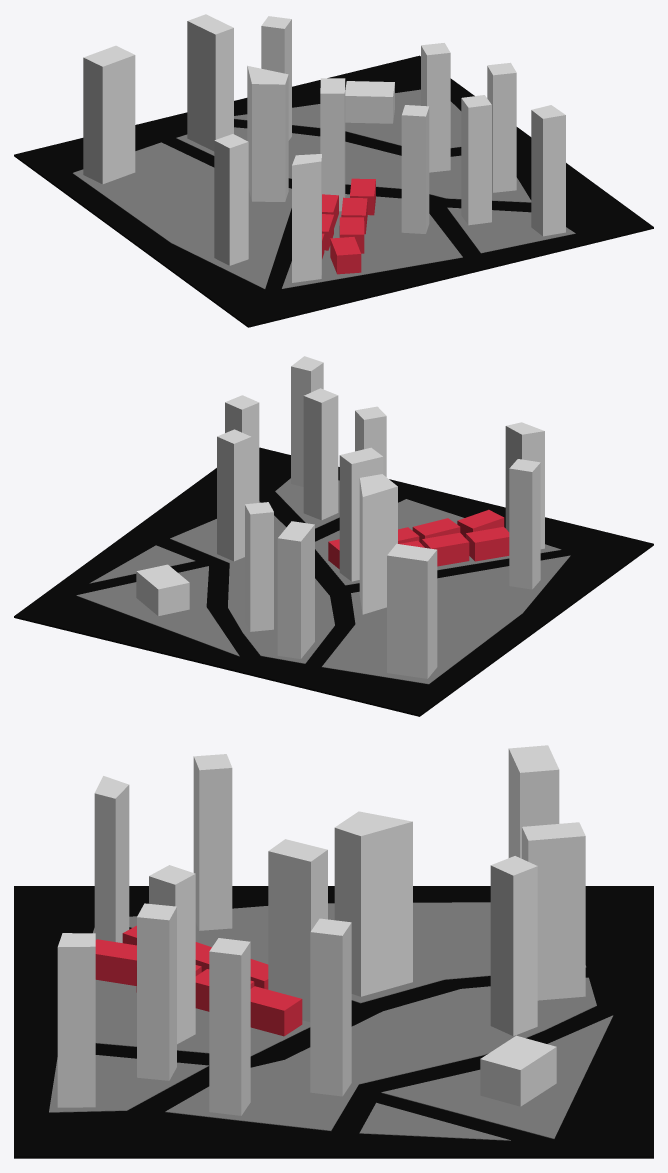
Rendered from mapDesign 1.fbx.
The picture shows the model from 3 angles, top to bottom: view 1: azimuth 30°, elevation 25°; view 2: azimuth 150°, elevation 25°; view 3: azimuth 270°, elevation 25°; orthographic projection. The views are drawn at different scales.
Visible parts, largest first — view 1: Cube, Cube.010, Cube.001, Cube.007, Cube.002, Cube.011, Cube.023, Cube.009, Cube.005, Cube.006, Cube.004, Cube.003 (+12 smaller); view 2: Cube, Cube.010, Cube.001, Cube.007, Cube.023, Cube.002, Cube.006, Cube.014, Cube.005, Cube.017, Cube.016, Cube.008 (+12 smaller); view 3: Cube, Cube.023, Cube.002, Cube.007, Cube.010, Cube.016, Cube.008, Cube.014, Cube.018, Cube.017, Cube.006, Cube.005 (+11 smaller).
Boxes of the visible parts, x1,y1,x2,y2 form: Cube: [14, 55, 653, 327]; Cube.010: [72, 142, 291, 289]; Cube.001: [83, 45, 135, 184]; Cube.007: [187, 14, 233, 151]; Cube.002: [247, 66, 288, 201]; Cube.011: [282, 194, 462, 288]; Cube.023: [176, 127, 531, 202]; Cube.009: [531, 105, 565, 236]; Cube.005: [214, 134, 248, 265]; Cube.006: [461, 95, 491, 225]; Cube.004: [292, 154, 321, 282]; Cube.003: [401, 105, 429, 233]; Cube: [14, 447, 653, 716]; Cube.010: [322, 555, 570, 684]; Cube.001: [387, 543, 437, 678]; Cube.007: [277, 521, 314, 658]; Cube.023: [170, 501, 334, 663]; Cube.002: [359, 474, 397, 614]; Cube.006: [303, 388, 338, 520]; Cube.014: [76, 566, 239, 656]; Cube.005: [509, 459, 540, 589]; Cube.017: [217, 429, 251, 561]; Cube.016: [245, 502, 273, 631]; Cube.008: [339, 447, 383, 581]; Cube: [14, 886, 653, 1158]; Cube.023: [165, 977, 596, 1130]; Cube.002: [334, 811, 412, 996]; Cube.007: [522, 822, 585, 1000]; Cube.010: [129, 902, 586, 1003]; Cube.016: [490, 856, 537, 1036]; Cube.008: [268, 839, 327, 1021]; Cube.014: [381, 1015, 613, 1138]; Cube.018: [209, 938, 250, 1115]; Cube.017: [310, 918, 351, 1096]; Cube.006: [137, 903, 176, 1080]; Cube.005: [193, 754, 232, 930].
Size of the model in its own units: 25000 by 7047 by 25000.
